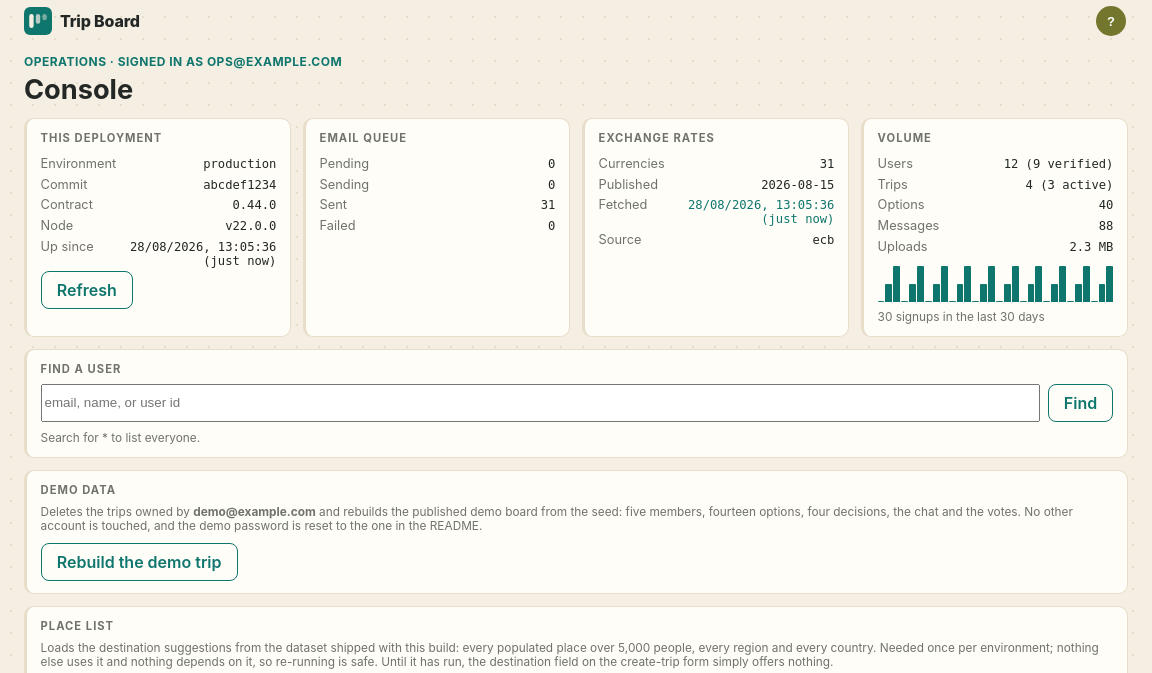
Test: listing everyone › asks for the next page rather than re-cutting the first
Expected: the text "abcdef1234" is shown, x1=203 y1=178 x2=276 y2=192
Type "*" into the field with placeholder "email, name, or user id".
click(540, 402); type("*")  # box x1=41 y1=384 x2=1040 y2=422
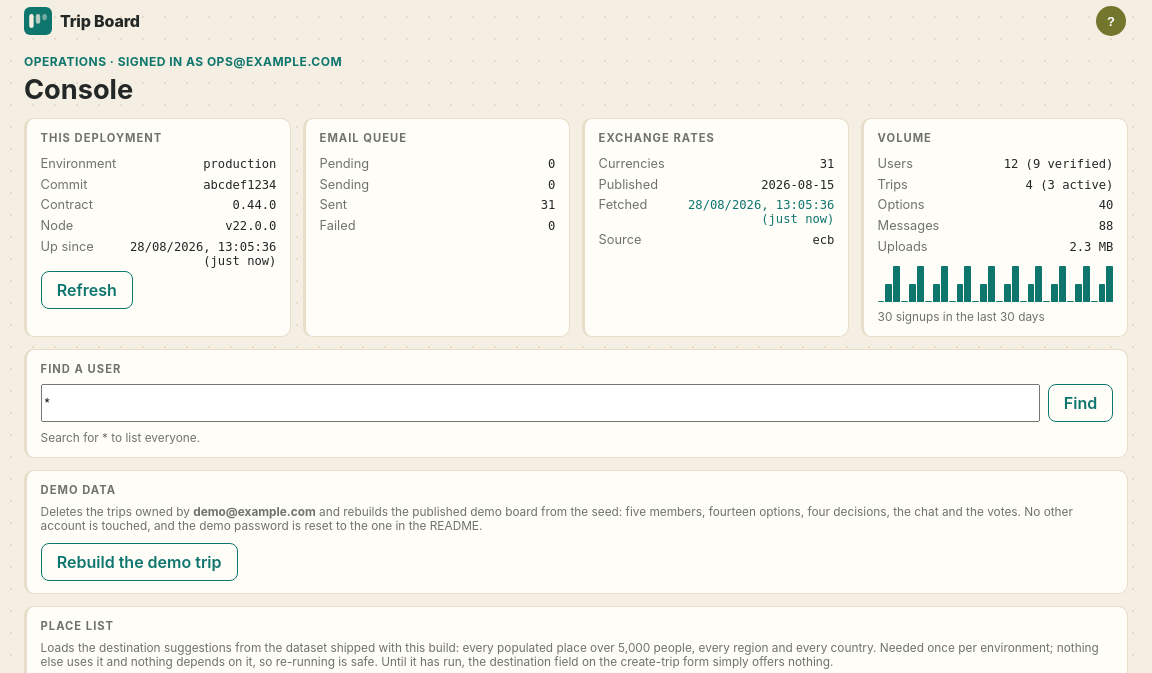
Click the button "Find".
click(1081, 402)  # box x1=1048 y1=384 x2=1114 y2=422
(page scrolled)
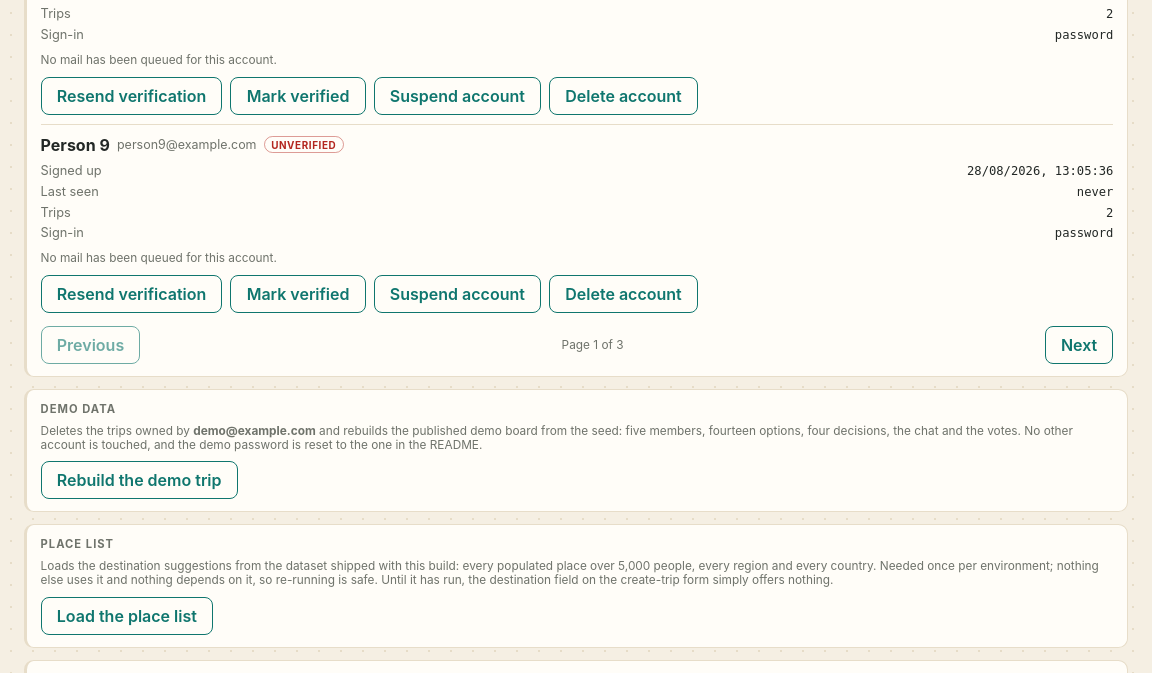
Click the button "Next".
click(1079, 345)  # box x1=1045 y1=326 x2=1114 y2=364
(page scrolled)
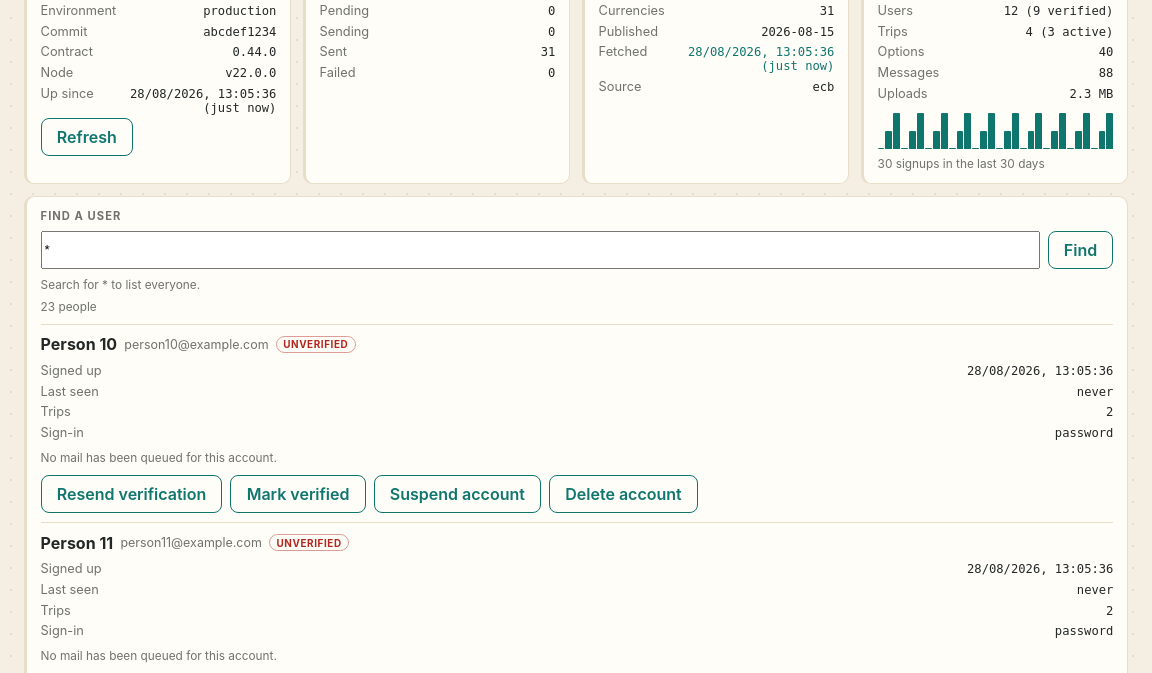
Now the text "person10@example.com" is shown, box x1=124 y1=337 x2=269 y2=352
